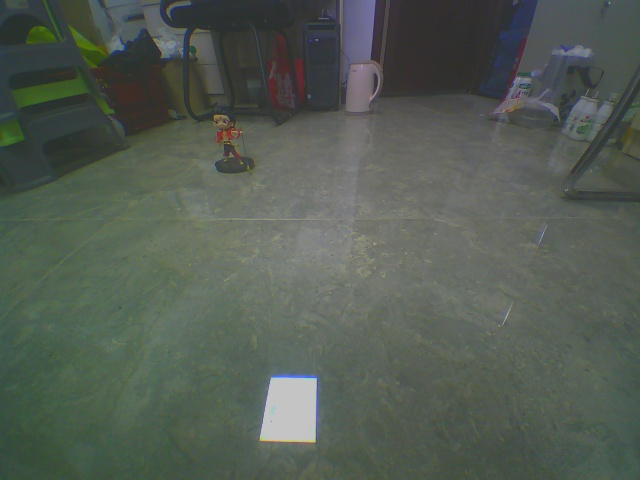Nezha: (200, 110, 285, 211)
